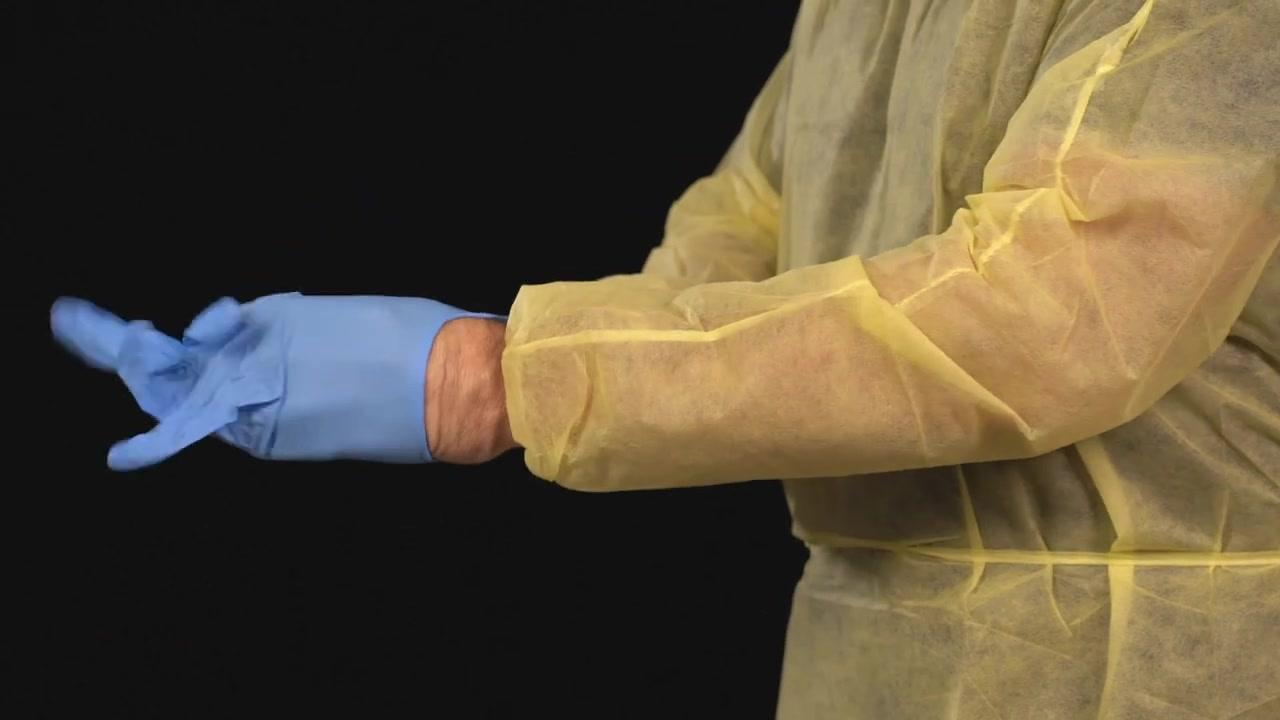Gloves Off: (425, 318, 518, 464)
Gloves On: (50, 292, 472, 470)
Suit On: (502, 4, 1280, 718)
